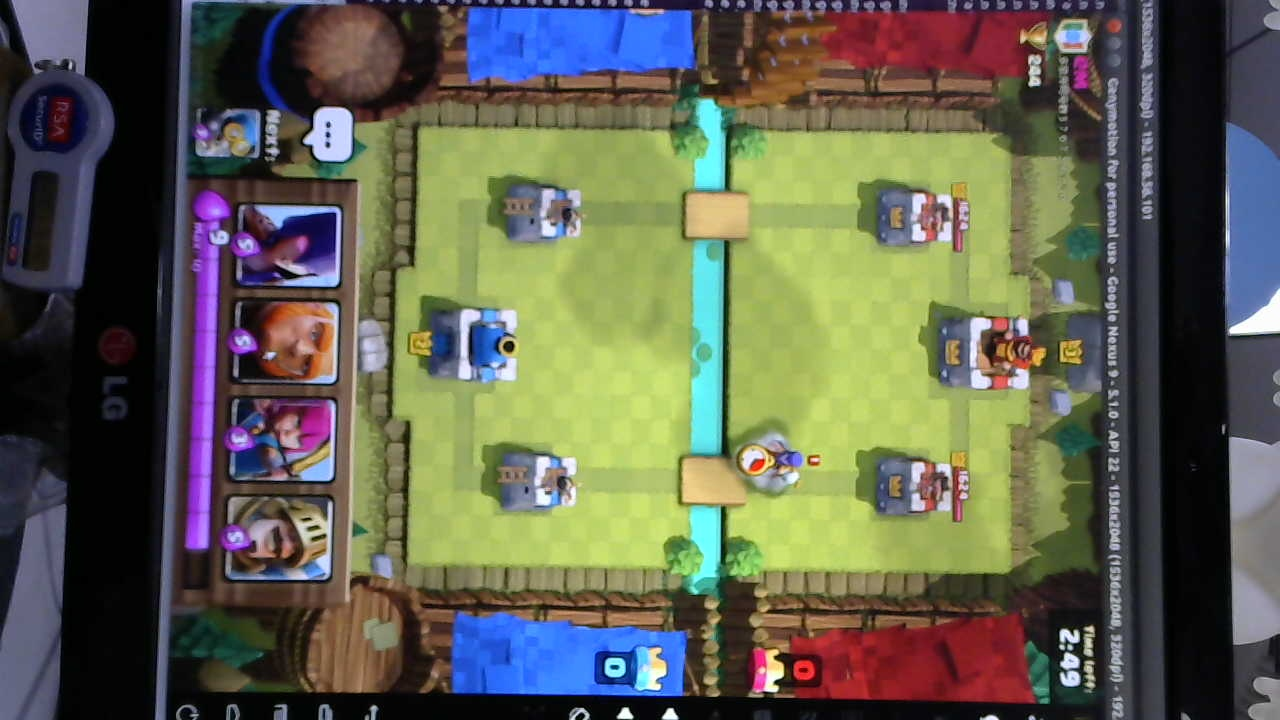witchE: (731, 439, 822, 489)
